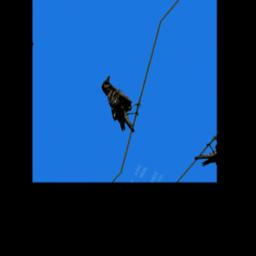Crow: (85, 73, 155, 136)
